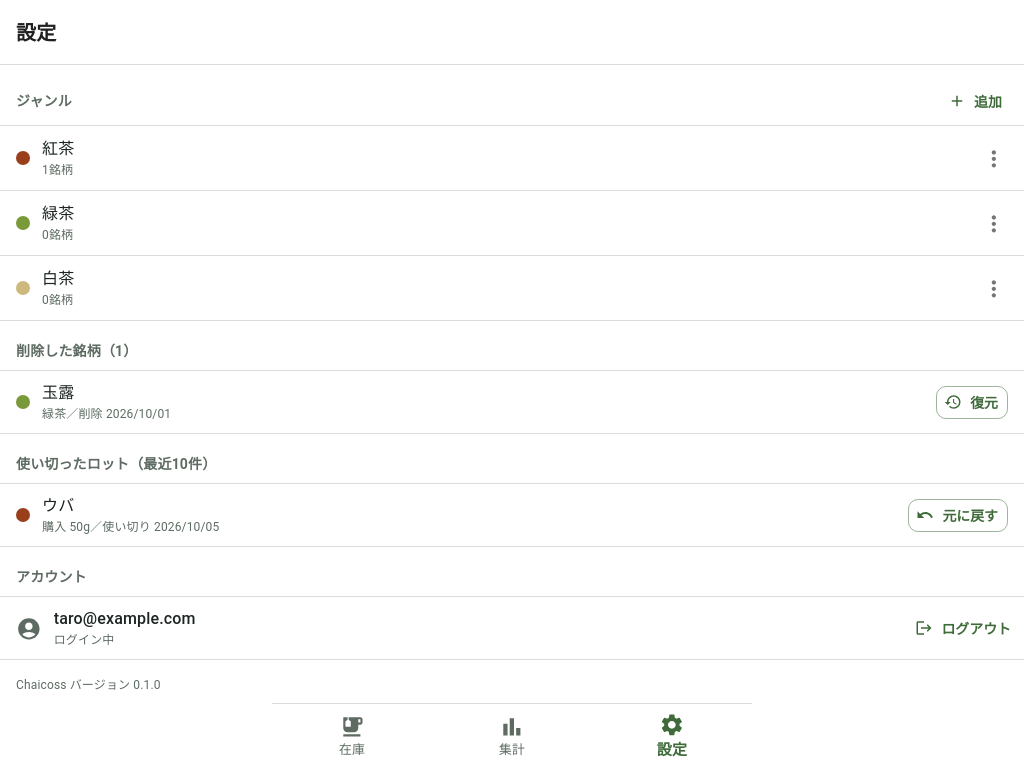
SC-07 設定：ジャンル › 使われていないジャンルは確認して削除する
Click the 4th button.
click(994, 288)  # box [972,266,1016,310]
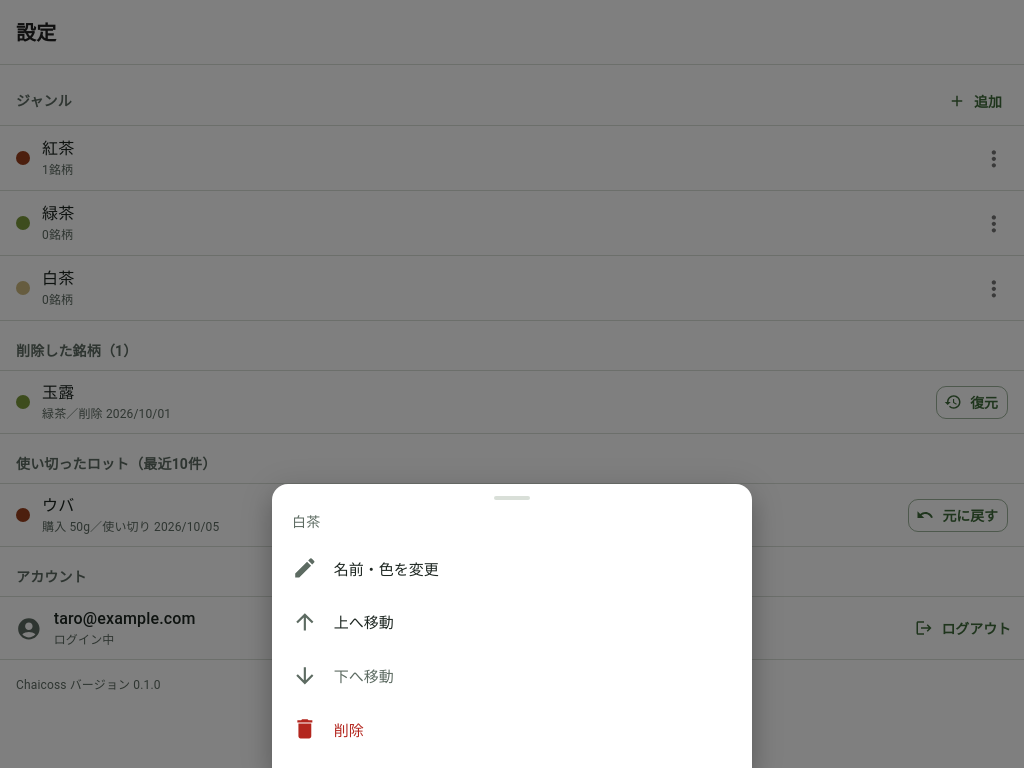
Click the menu item "削除".
click(349, 730)  # box [272,702,752,756]
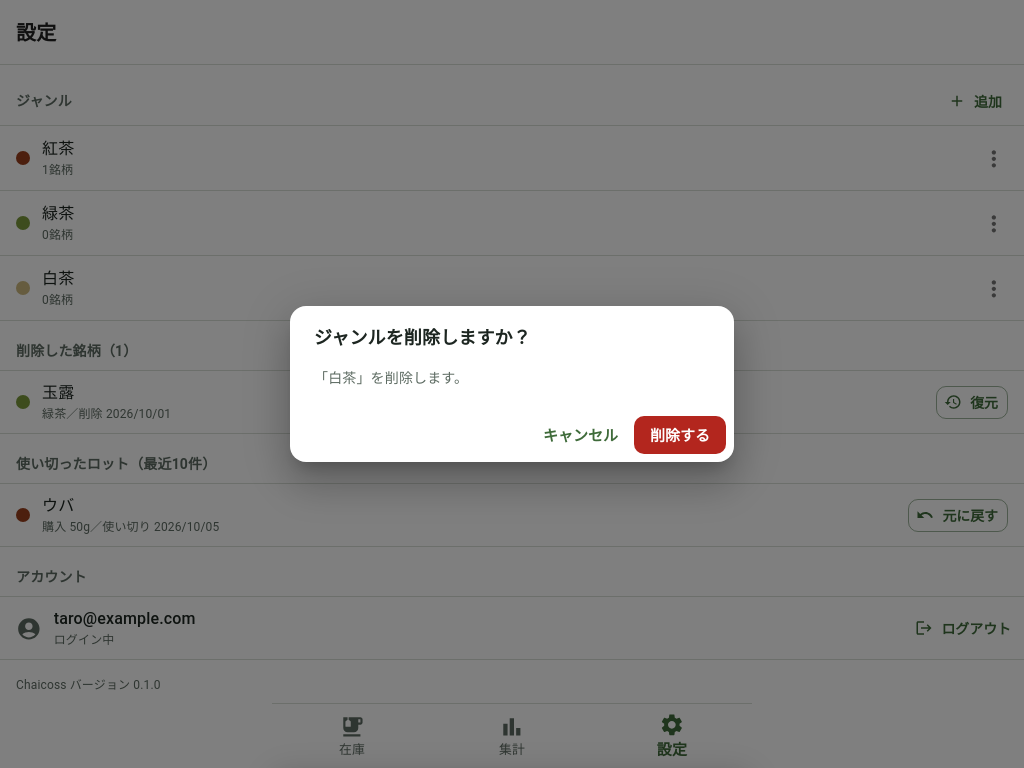
Result: the text "「白茶」を削除します。" is shown at [314,367,468,387]
Click the button "削除する".
click(680, 435)  # box [634,416,726,454]
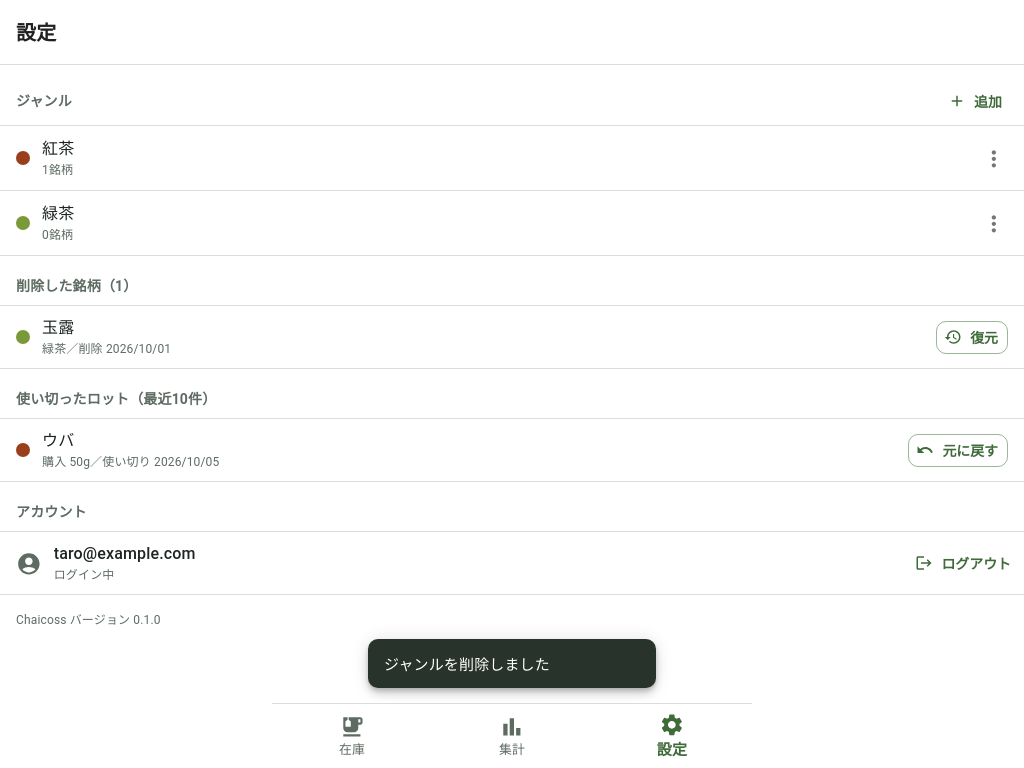
Result: the text "ジャンルを削除しました" is shown at [384,653,550,674]
